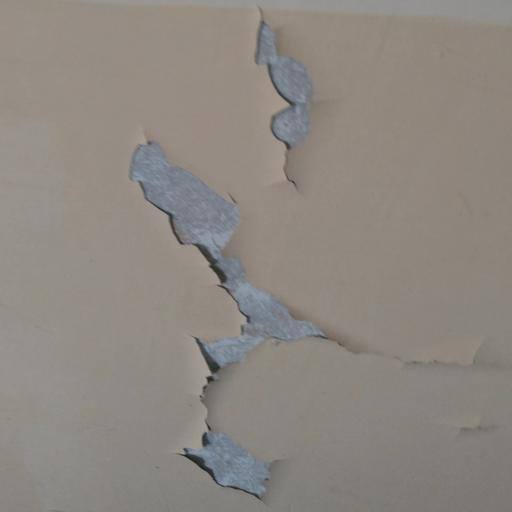peeling: (74, 118, 354, 497), (241, 2, 337, 222)
